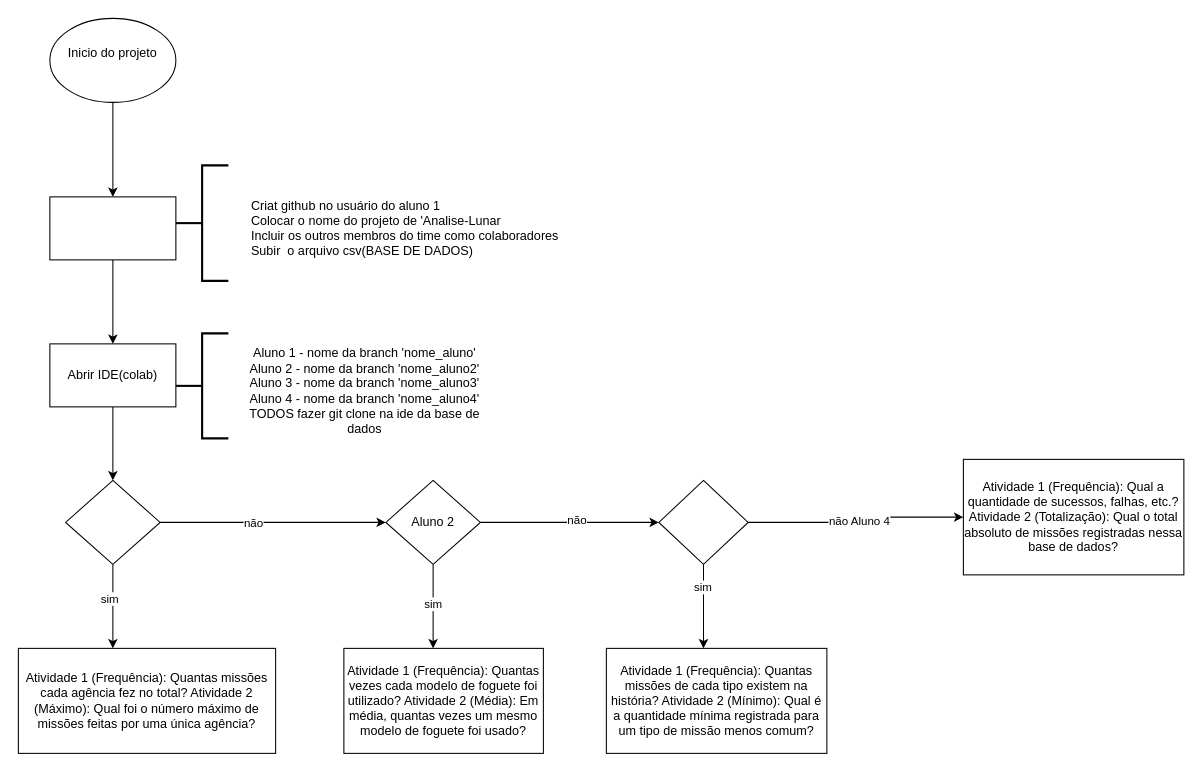
Some shapes in this 1202 by 772 pixel diagram are drawn without their labels. The centre of each missing label's shape, as x and y in pixels:
"Aluno 1" goes at point 112,521.
"Aluno 3" goes at point 703,521.
"Criar github para o time" goes at point 112,228.
